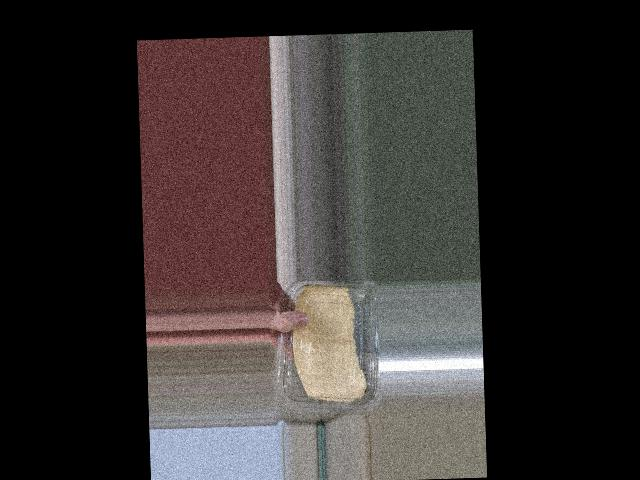cheese: (284, 277, 382, 416)
